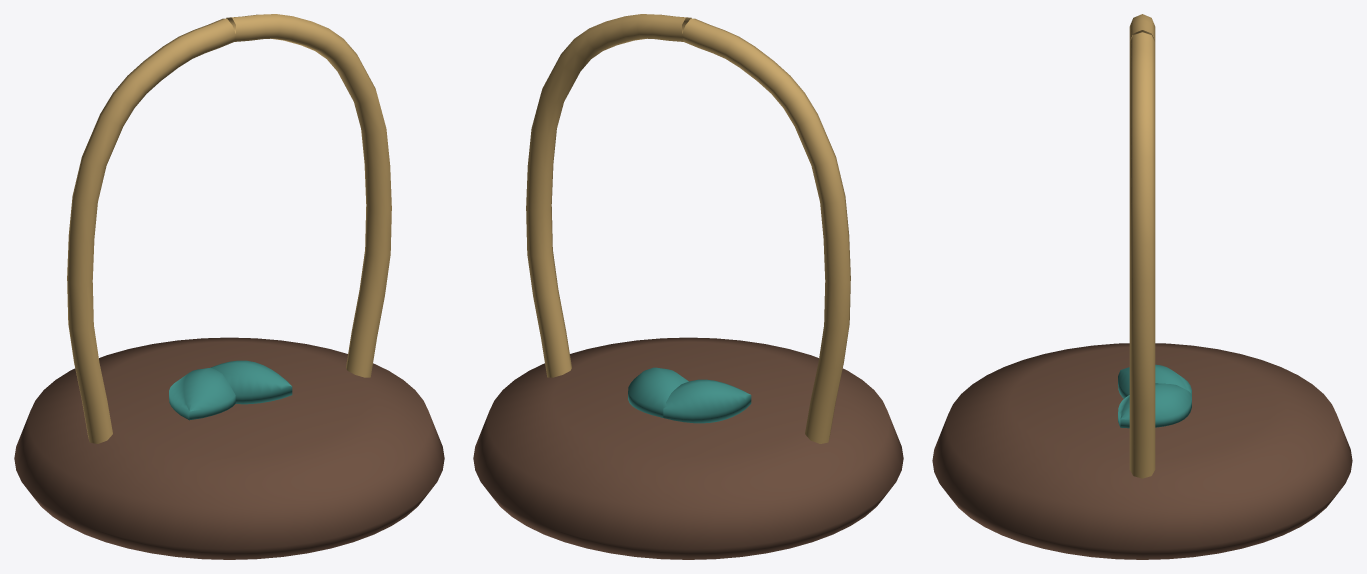
Rendered from gate_arch.glb.
The picture shows the model from 3 angles, left to right: view 1: azimuth 30°, elevation 25°; view 2: azimuth 150°, elevation 25°; view 3: azimuth 270°, elevation 25°; orthographic projection. The views are drawn at different scales.
Visible parts, largest first — view 1: gate_arch_Walnut carved edge, gate_arch_Brushed champagne brass, gate_arch_Glazed teal porcelain; view 2: gate_arch_Walnut carved edge, gate_arch_Brushed champagne brass, gate_arch_Glazed teal porcelain; view 3: gate_arch_Walnut carved edge, gate_arch_Brushed champagne brass, gate_arch_Glazed teal porcelain.
Boxes of the visible parts, x1=… form: gate_arch_Walnut carved edge: x1=14, y1=337, x2=444, y2=559; gate_arch_Brushed champagne brass: x1=67, y1=14, x2=391, y2=443; gate_arch_Glazed teal porcelain: x1=169, y1=360, x2=292, y2=420; gate_arch_Walnut carved edge: x1=473, y1=337, x2=903, y2=559; gate_arch_Brushed champagne brass: x1=526, y1=14, x2=850, y2=443; gate_arch_Glazed teal porcelain: x1=628, y1=367, x2=751, y2=423; gate_arch_Walnut carved edge: x1=932, y1=343, x2=1352, y2=559; gate_arch_Brushed champagne brass: x1=1129, y1=14, x2=1155, y2=478; gate_arch_Glazed teal porcelain: x1=1118, y1=364, x2=1191, y2=428.
Bounding box in the file's own units: 1.52 × 1.78 × 1.52.
